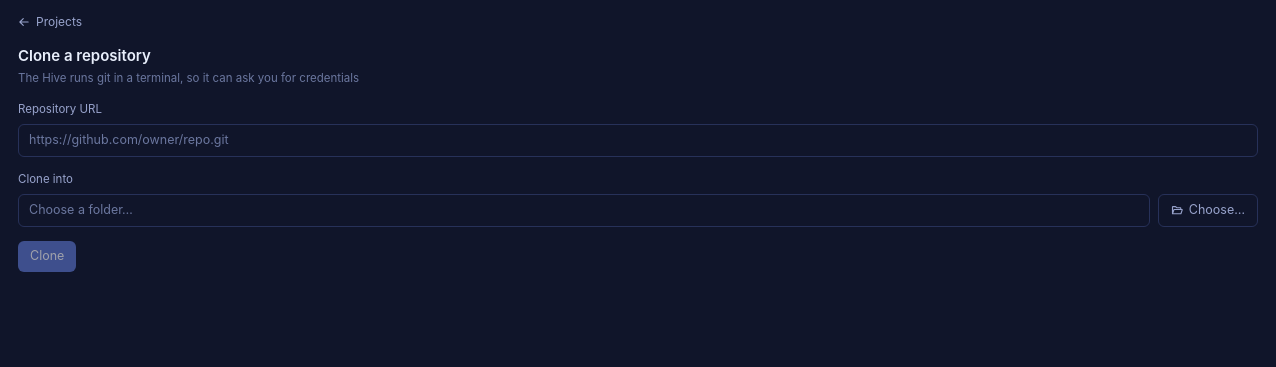
Test: CloneRepoView › surfaces a refusal and stays on the form
Type "https://github.com/behiques/the-hive.git" into the field labelled "Repository URL". click: (638, 140)
box: [18,124,1258,157]
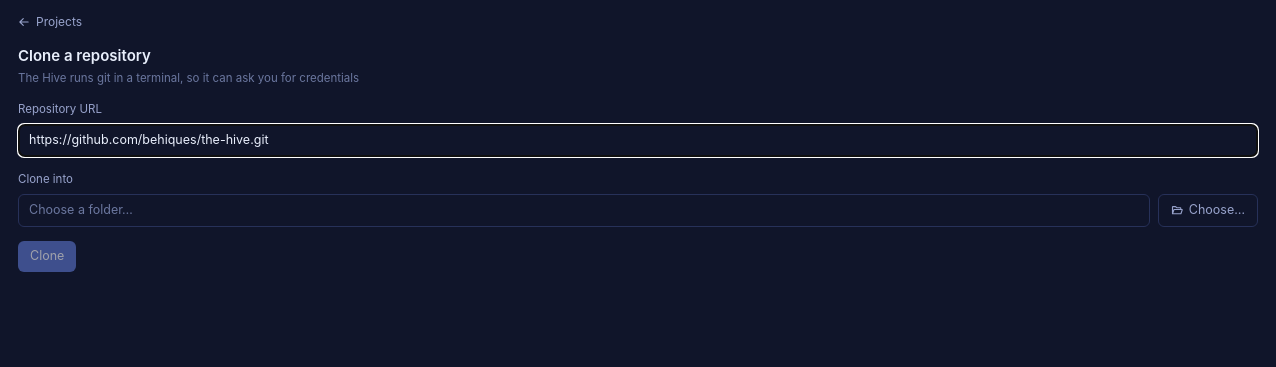
Click the button "Choose…". click: click(1208, 210)
box: [1158,194,1258,227]
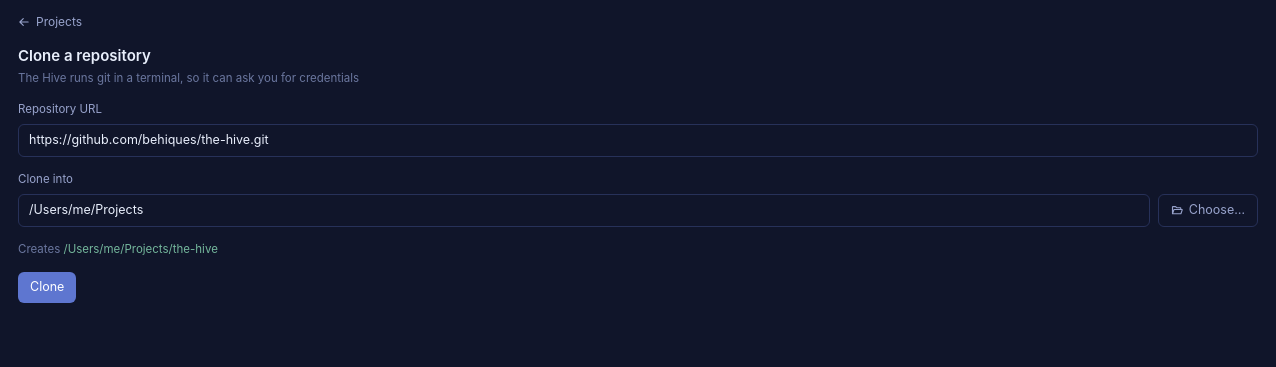
Click the button "Clone". click: click(47, 287)
box: [18,272,76,303]
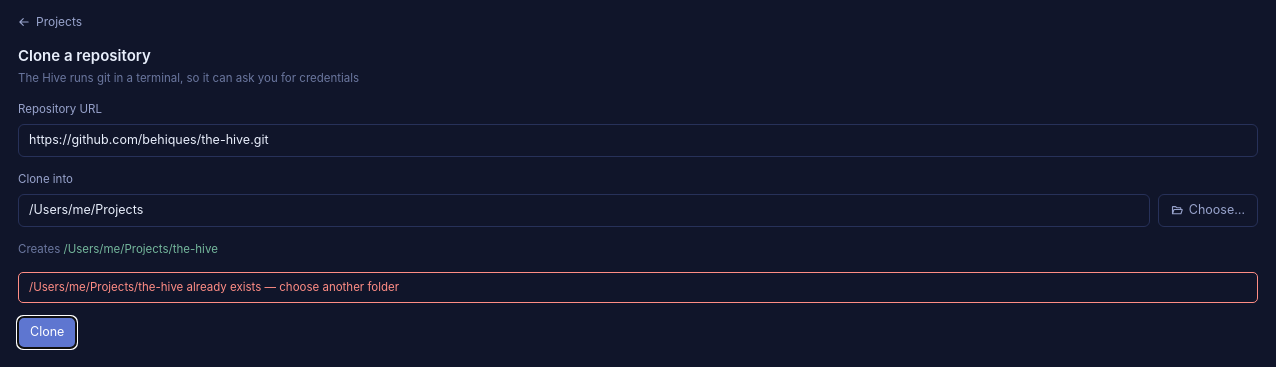
Expected: the button "Clone" is shown, [18,317,76,348]
Result: the text "already exists" is shown at [29,280,399,294]
